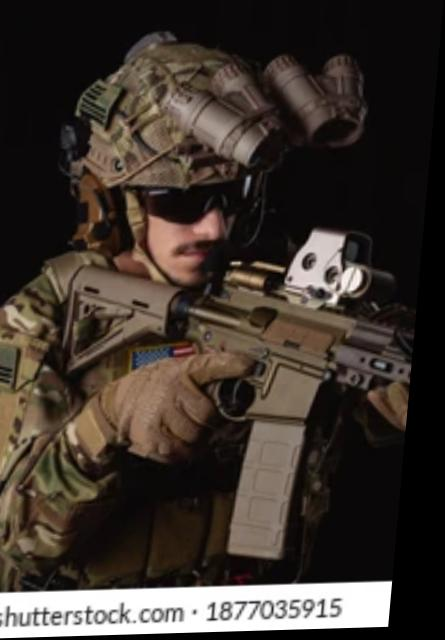other: (0, 34, 325, 542)
